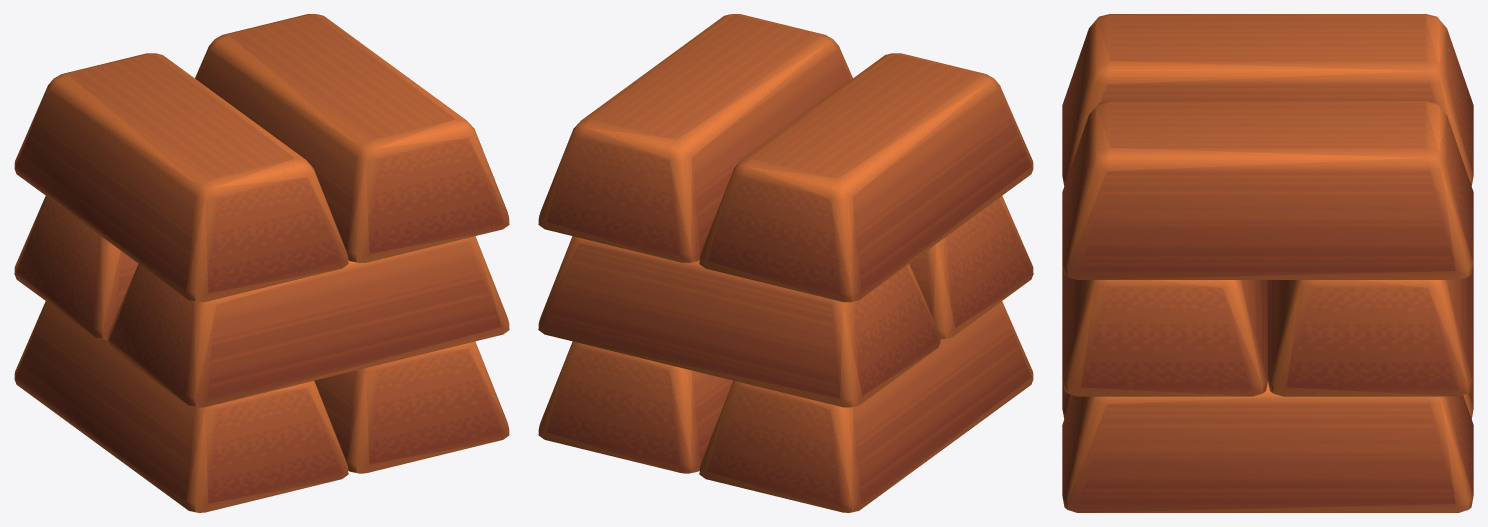
Rendered from Copper_Bars_Stack_Small.gltf.
The picture shows the model from 3 angles, left to right: view 1: azimuth 30°, elevation 25°; view 2: azimuth 150°, elevation 25°; view 3: azimuth 270°, elevation 25°; orthographic projection. The views are drawn at different scales.
Visible parts, largest first — view 1: Copper_Bars_Stack_Small; view 2: Copper_Bars_Stack_Small; view 3: Copper_Bars_Stack_Small.
Boxes of the visible parts, bbox=[...] form: Copper_Bars_Stack_Small: bbox=[14, 14, 509, 512]; Copper_Bars_Stack_Small: bbox=[538, 14, 1033, 512]; Copper_Bars_Stack_Small: bbox=[1062, 14, 1473, 512].
Bounding box in the file's own units: 0.8 × 0.75 × 0.8.
1 material, 1 textured.
